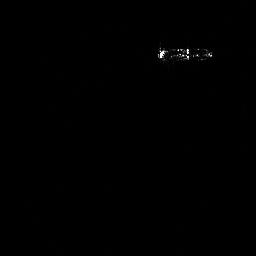ship: (153, 43, 216, 64)
